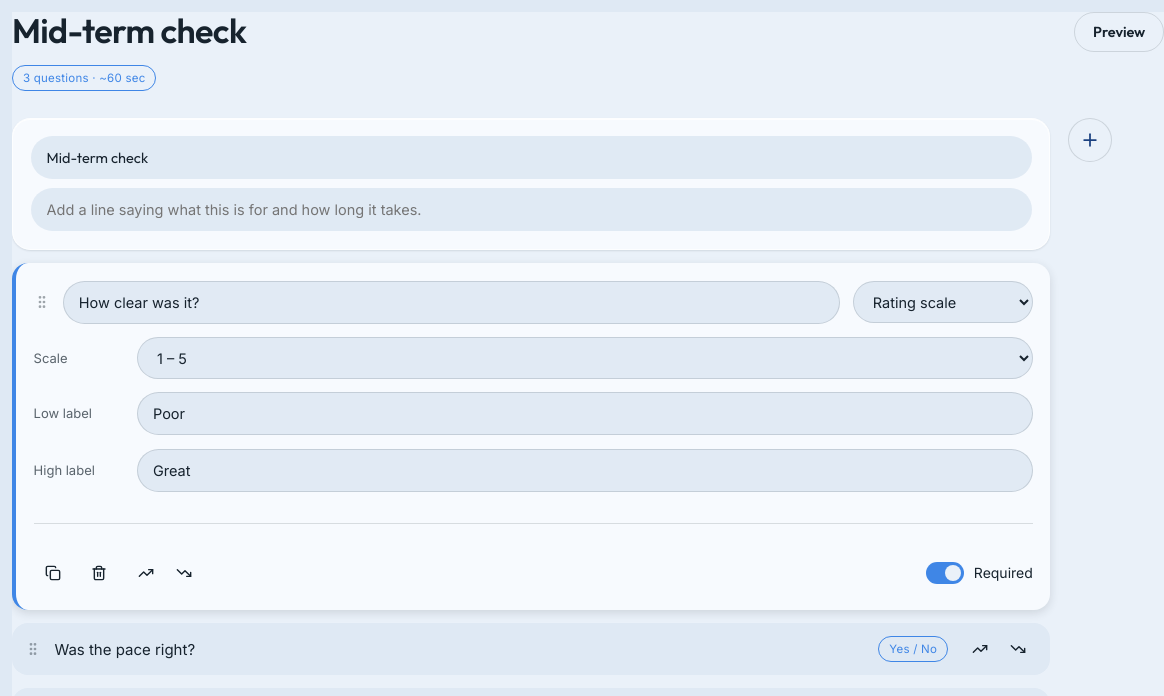
add, duplicate, delete, undo › duplicates below the source and strips the id
Click the 2nd button named "Duplicate How clear was it" at (53, 573), box 34,554 -> 72,592
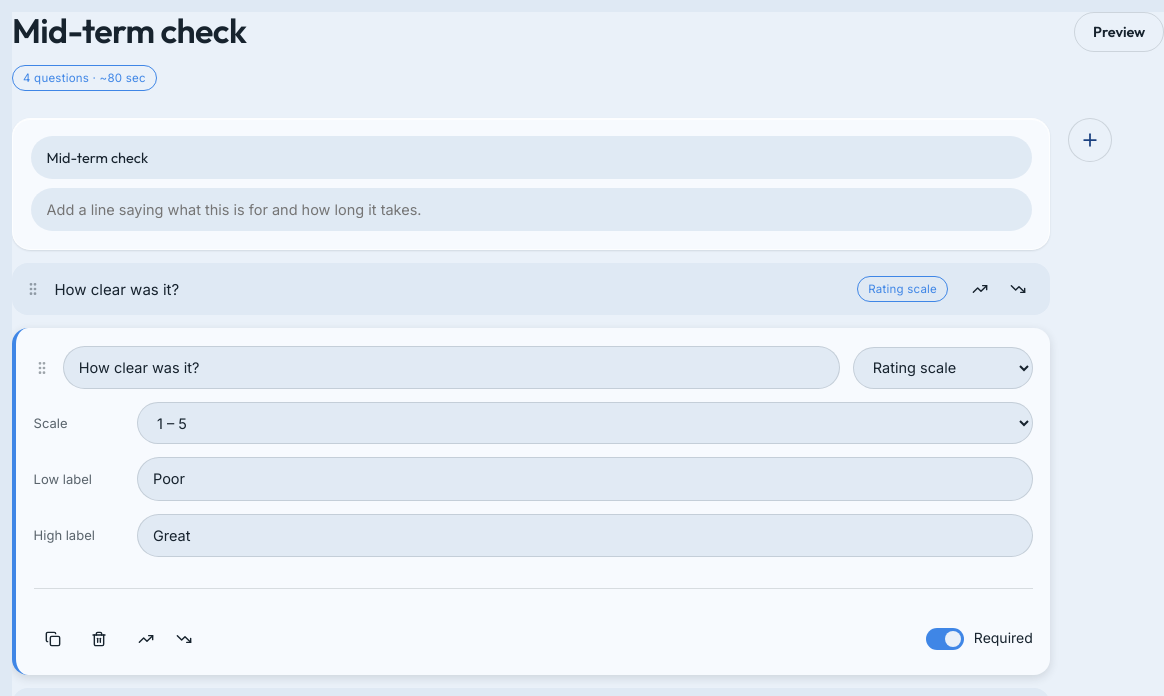
Expected: the button "How clear was it?" is shown, 54,280 -> 844,299
